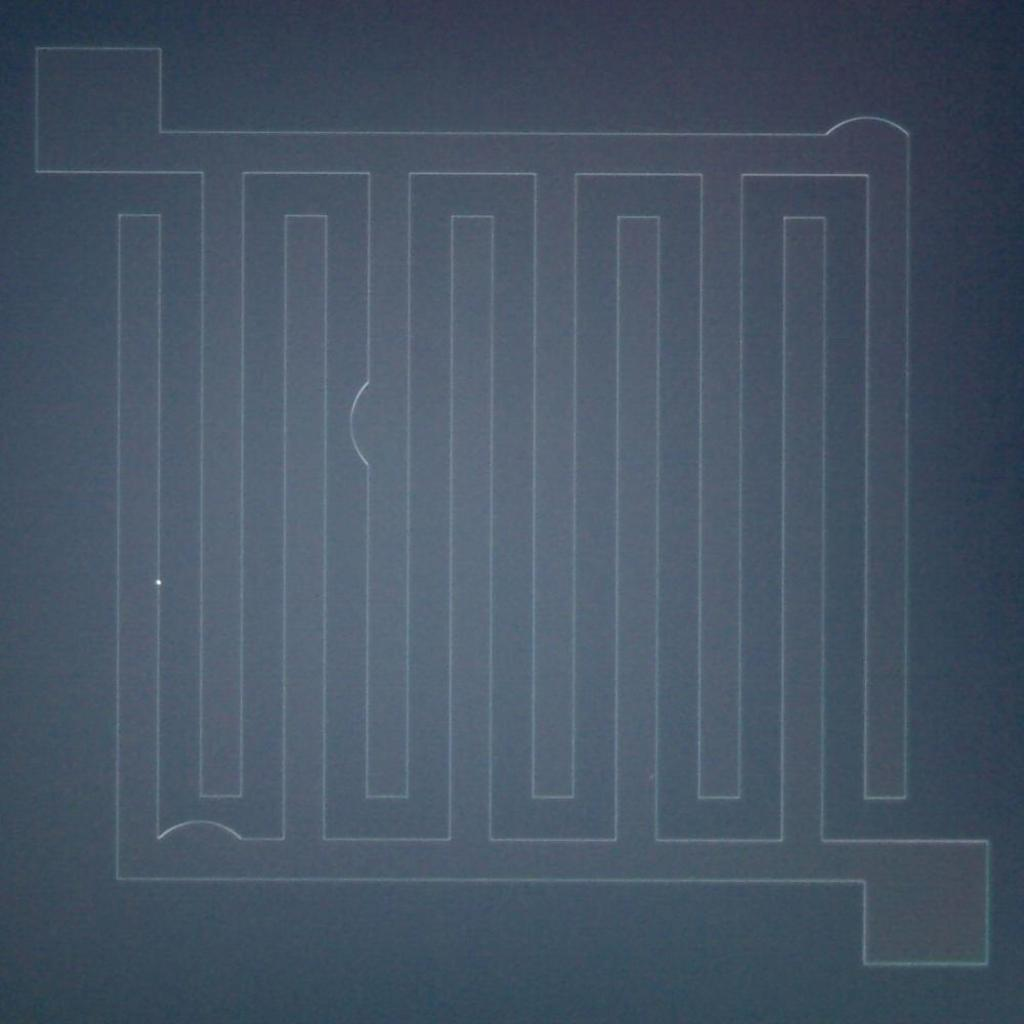dot: (156, 580, 161, 584), (650, 774, 654, 778)
